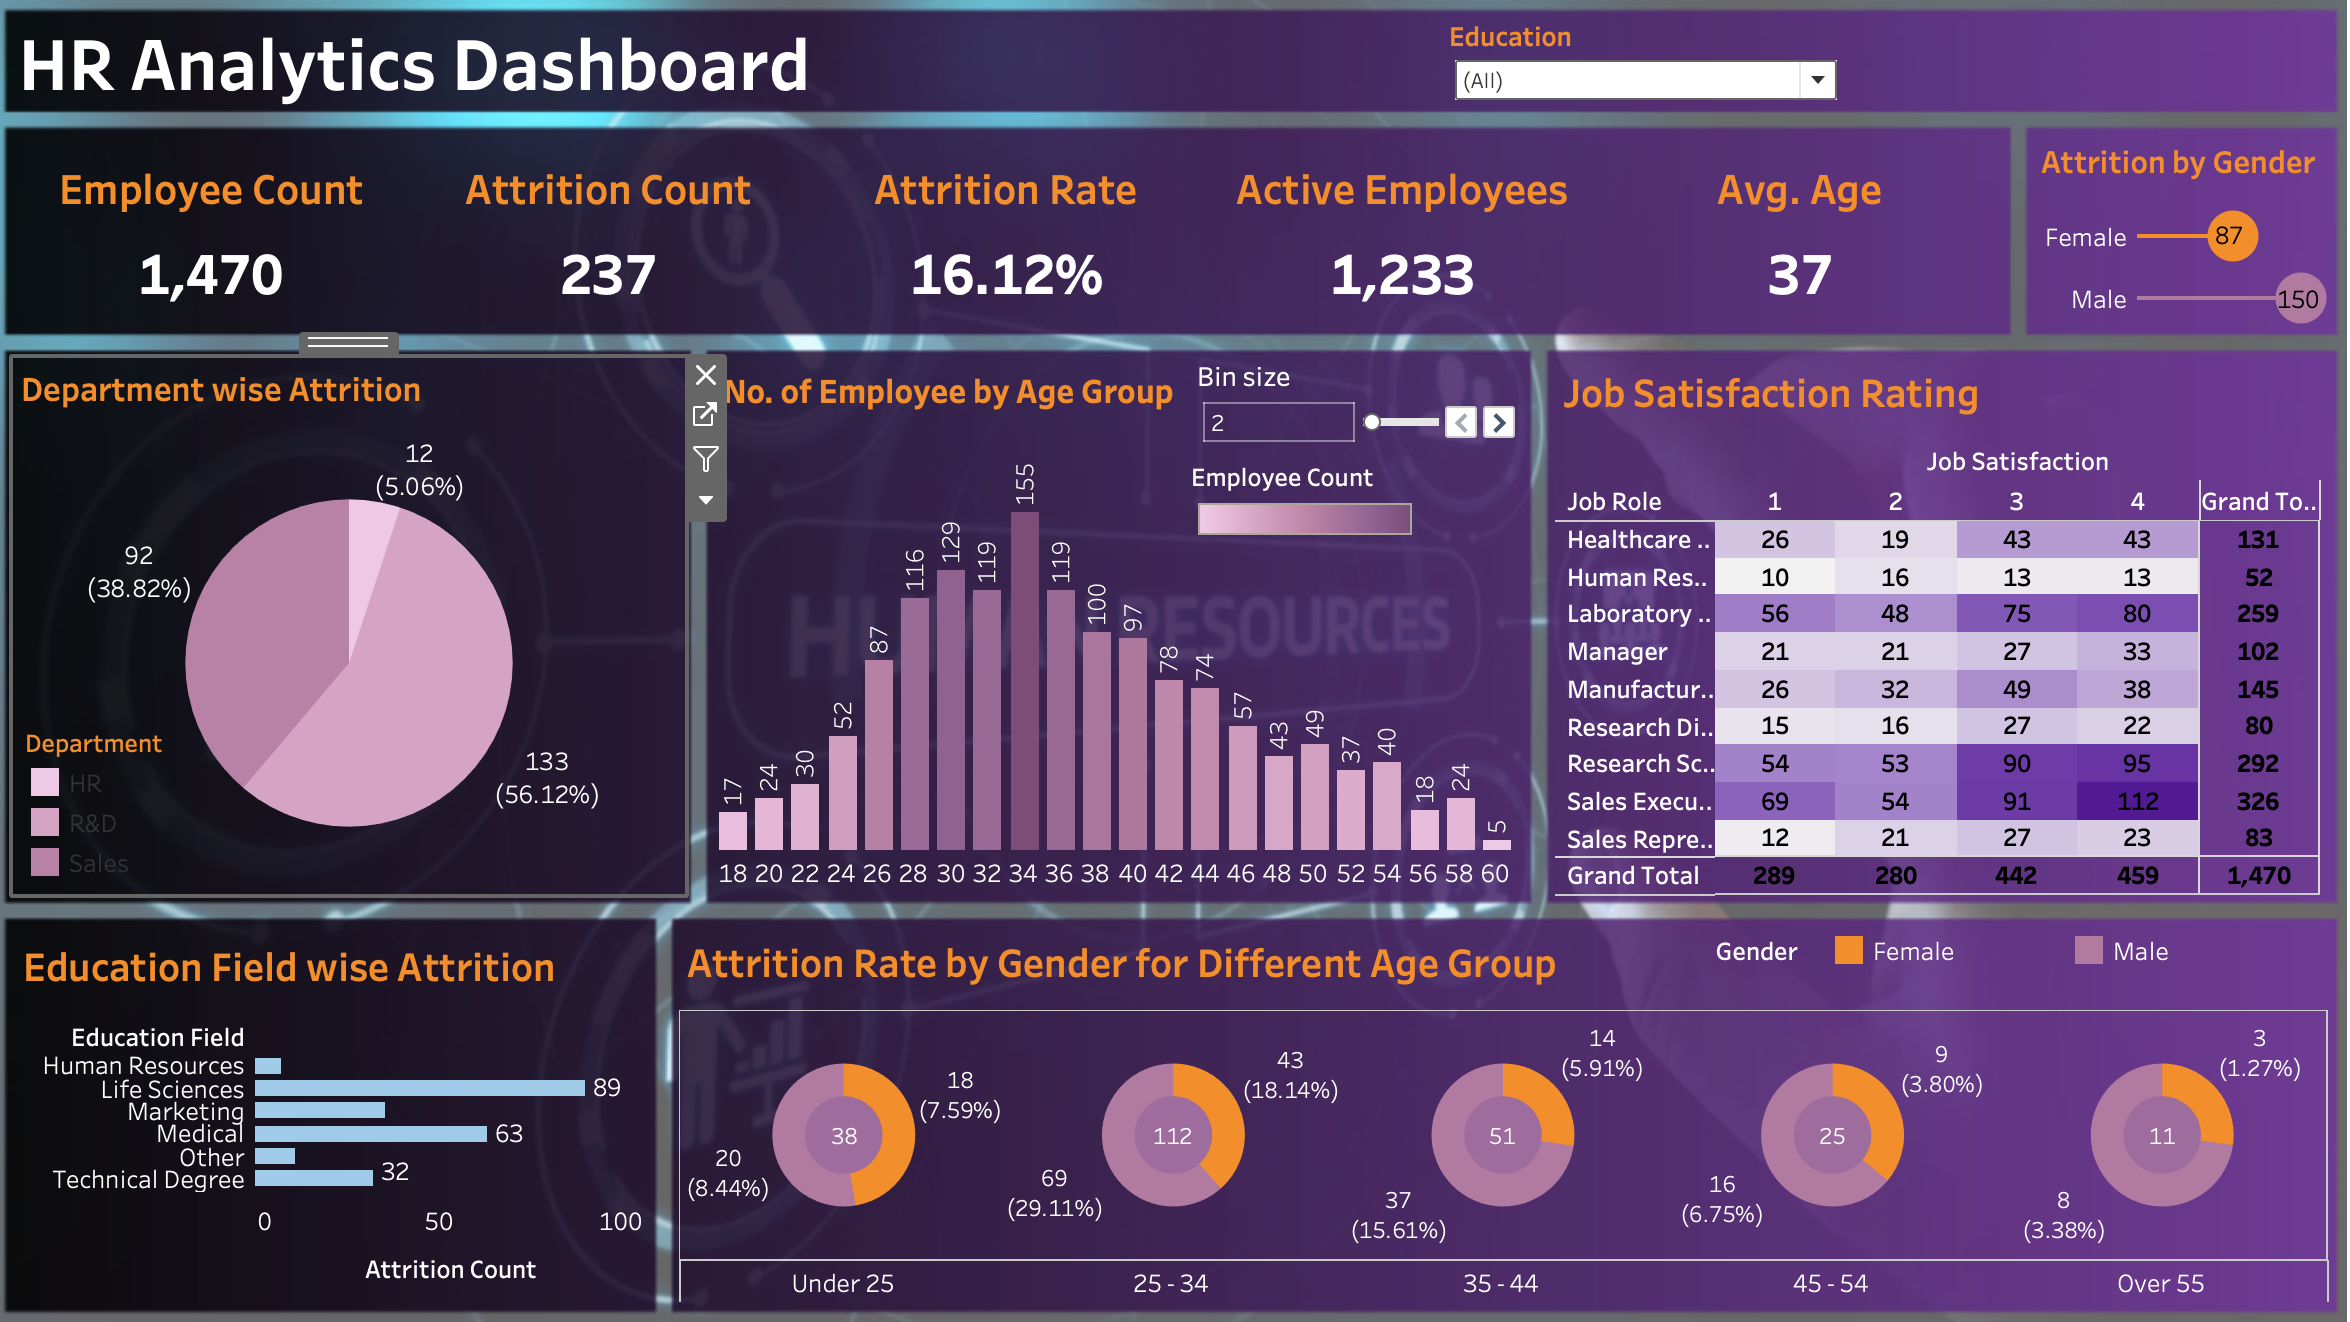

Layout of this report page (visuals, bound fields, positions):
{"tool":"tableau","page":{"name":"HR Dashboard","canvas":[1200,800],"ordinal":0},"visuals":[{"type":"image","param":"Image/HR background.pptx.png","box":[8,8,1184,784]},{"type":"text","box":[21,77,533,45]},{"type":"filter","title":"Department wise Attrition","param":"[federated.1xo5f0l199krwf1b0i6ty1hkcsfi].[none:Education:nk]","box":[739,78,197,44]},{"type":"worksheet","title":"Attrition by Gender","mark":"Automatic","rows":["Gender"],"cols":["Calculation_3356166941831073792","Calculation_3356166941831073792"],"box":[1031,135,151,99]},{"type":"worksheet","title":"KPI","mark":"Automatic","box":[21,137,993,95]},{"type":"worksheet","title":"Department wise Attrition","mark":"Pie","box":[21,248,336,268]},{"type":"parameter","param":"[Parameters].[Parameter 1]","box":[613,248,162,46]},{"type":"worksheet","title":"Job Satisfaction Rating","mark":"Square","rows":["Job Role"],"cols":["Job Satisfaction"],"box":[792,248,383,269]},{"type":"worksheet","title":"No. of Employee by Age Group","mark":"Automatic","rows":["Employee Count"],"cols":["Age (bin)"],"box":[372,249,400,266]},{"type":"legend","title":"No. of Employee by Age Group","param":"[federated.1xo5f0l199krwf1b0i6ty1hkcsfi].[sum:Employee Count:qk]","box":[610,299,115,43]},{"type":"legend","title":"Department wise Attrition","param":"[federated.1xo5f0l199krwf1b0i6ty1hkcsfi].[none:Department:nk]","box":[27,432,80,78]},{"type":"worksheet","title":"Attrition Rate by Gender for Different Age Group","mark":"Pie","rows":["Calculation_3356166942154952711","Calculation_3356166942154952711"],"cols":["CF_age band"],"box":[354,533,825,188]},{"type":"legend","title":"Attrition Rate by Gender for Different Age Group","param":"[federated.1xo5f0l199krwf1b0i6ty1hkcsfi].[none:Gender:nk]","box":[857,534,323,35]},{"type":"worksheet","title":"Education Field wise Attrition","mark":"Automatic","rows":["Education Field"],"cols":["Calculation_3356166941831073792"],"box":[22,535,316,184]}]}

Visuals, with their boxes on the page's 1200x800 design canvas (x1, y1, x2, y2). These are canvas units, not pixel positions in the 2350x1322 screenshot, which may show the page scaled, cropped or inside an application window:
image: 8/8/1192/792
text: 21/77/554/122
"Department wise Attrition" filter: 739/78/936/122
"Attrition by Gender" worksheet: 1031/135/1182/234
"KPI" worksheet: 21/137/1014/232
"Department wise Attrition" worksheet (Pie marks): 21/248/357/516
parameter: 613/248/775/294
"Job Satisfaction Rating" worksheet (Square marks): 792/248/1175/517
"No. of Employee by Age Group" worksheet: 372/249/772/515
"No. of Employee by Age Group" legend: 610/299/725/342
"Department wise Attrition" legend: 27/432/107/510
"Attrition Rate by Gender for Different Age Group" worksheet (Pie marks): 354/533/1179/721
"Attrition Rate by Gender for Different Age Group" legend: 857/534/1180/569
"Education Field wise Attrition" worksheet: 22/535/338/719
